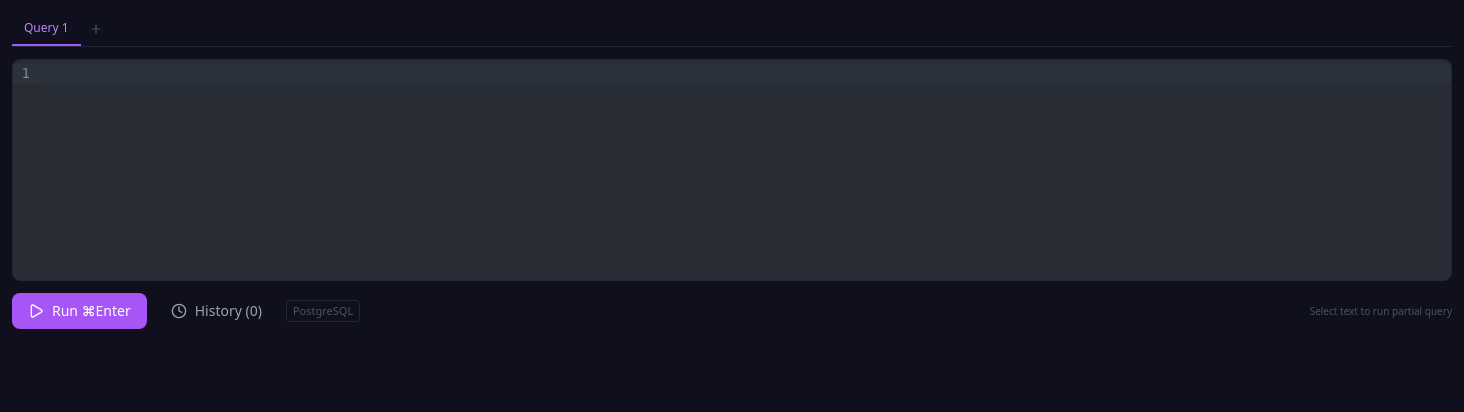
Test: SqlEditorPage › an empty editor runs nothing and asks for a query
Click the button with test id "run-query-btn" at (79, 311), box [12,293,147,329]
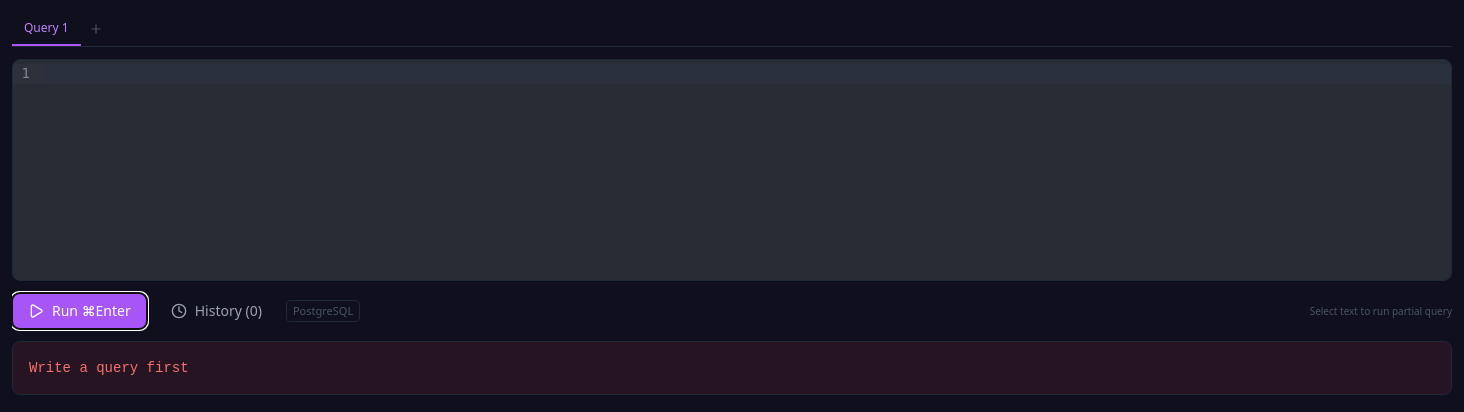
Expected: the text with test id "query-error" reads "Write a query first", [29,360,189,376]
